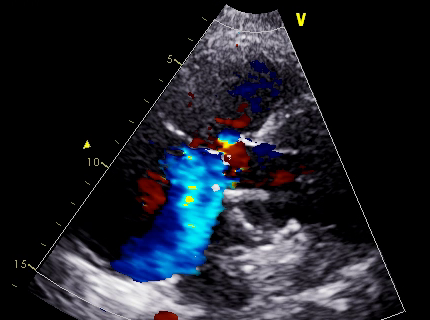TR: (173, 123, 244, 212)
